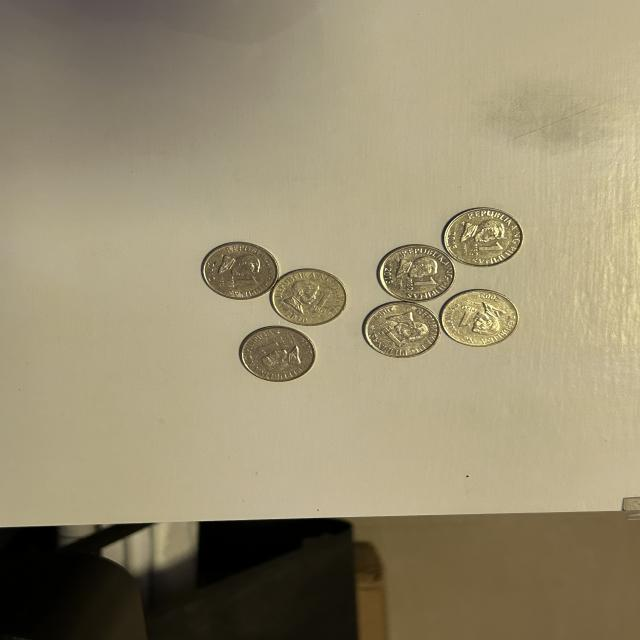1_Old_Front: (376, 325, 409, 353), (252, 335, 288, 355), (472, 239, 504, 260), (404, 274, 436, 294), (309, 291, 332, 318), (227, 272, 258, 292), (456, 304, 475, 332)
